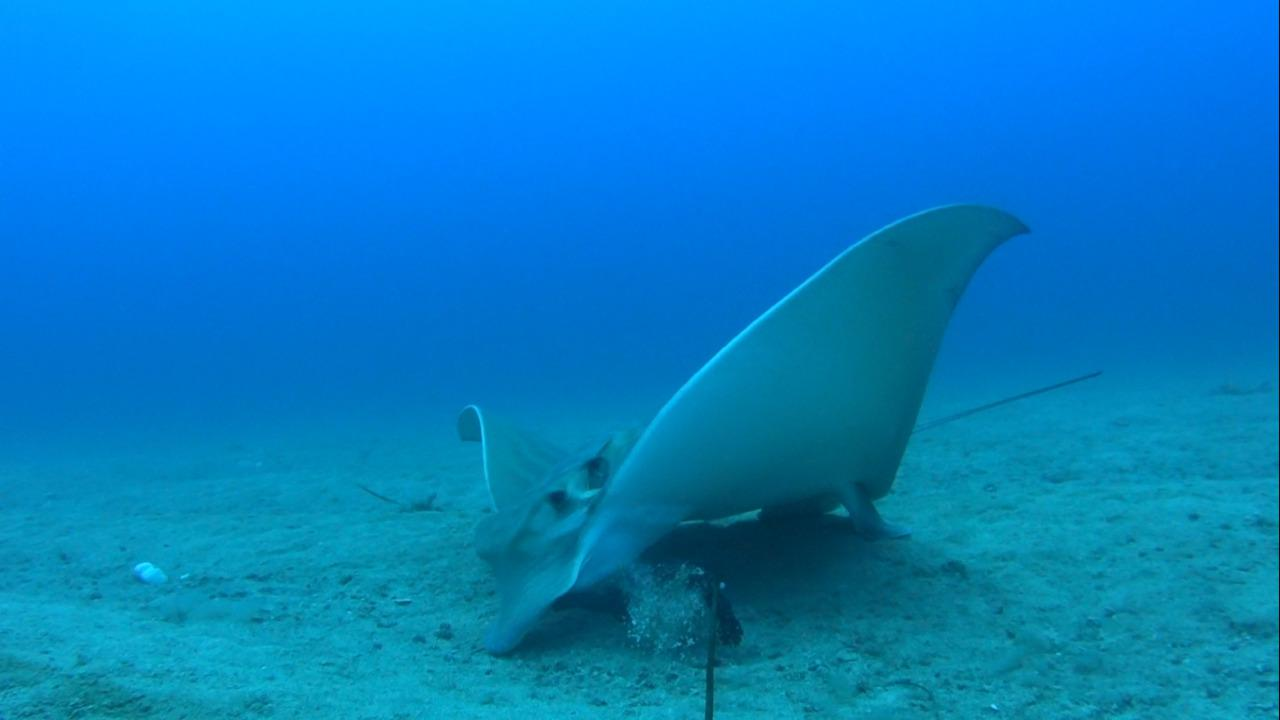myliobatis: (447, 197, 1113, 668)
